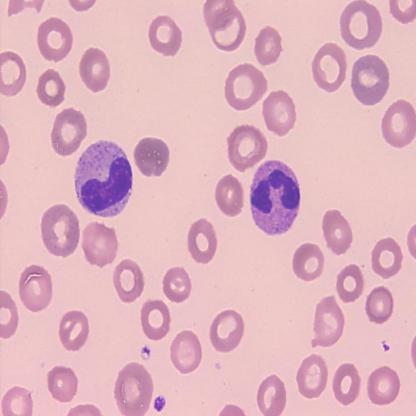Band Neutrophil: (74, 138, 136, 219), (247, 157, 302, 236)
